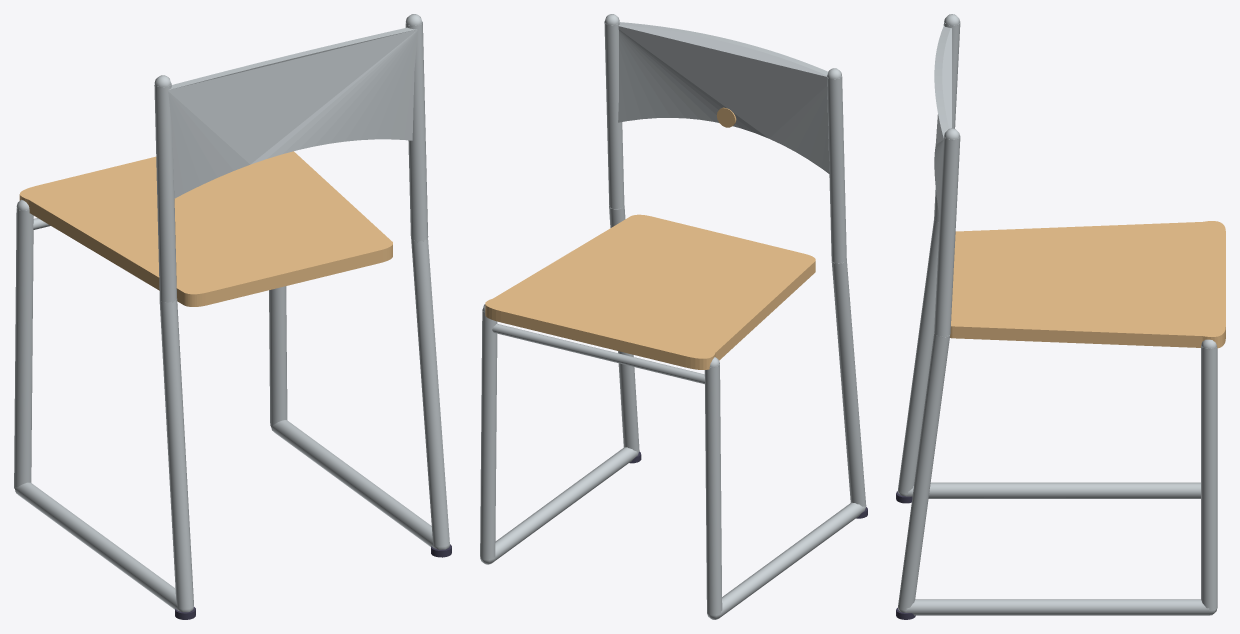
File: chaise.glb
3 views of the same model, side by side, from view 1: azimuth 30°, elevation 25°; view 2: azimuth 150°, elevation 25°; view 3: azimuth 270°, elevation 25° (orthographic). The views are drawn at different scales.
Visible parts, largest first — view 1: chaise; view 2: chaise; view 3: chaise.
Part boxes in pixels (bbox=[...]): chaise: bbox=[14, 14, 451, 619]; chaise: bbox=[480, 14, 867, 619]; chaise: bbox=[896, 14, 1225, 619].
Bounding box in the file's own units: 0.448 × 0.8125 × 0.5.
